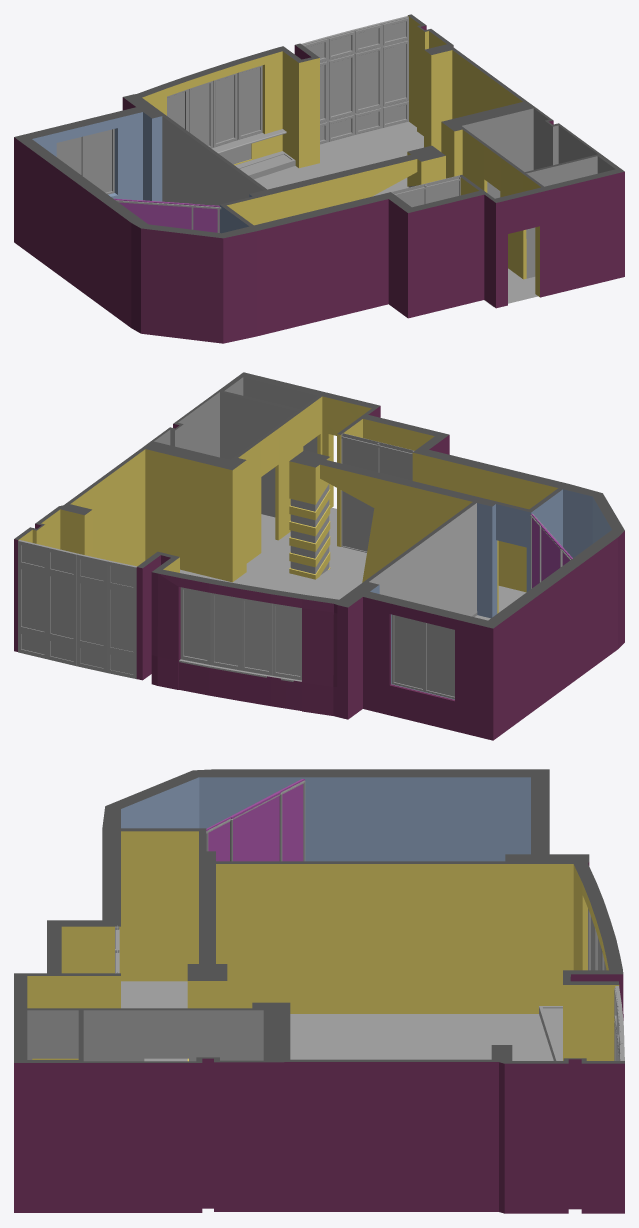
The model's file is apartament_walls.fbx.
3 views of the same model, one above another, from view 1: azimuth 30°, elevation 25°; view 2: azimuth 150°, elevation 25°; view 3: azimuth 270°, elevation 25° (orthographic). The views are drawn at different scales.
Visible parts, largest first — view 1: Walls; view 2: Walls; view 3: Walls.
Part boxes in pixels (<box>): Walls: <box>14,14,624,343</box>; Walls: <box>14,372,624,740</box>; Walls: <box>14,769,624,1213</box>.
Bounding box in the file's own units: 1210 × 325 × 1061.
